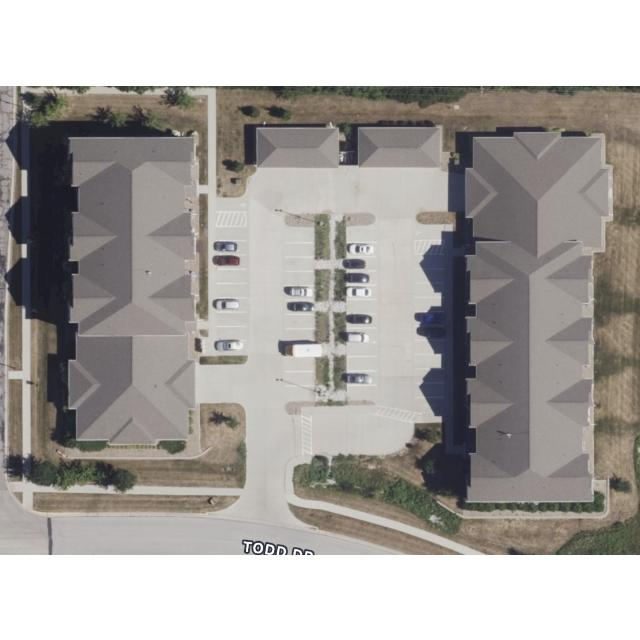Empty: (283, 226, 315, 242), (346, 225, 376, 241), (285, 385, 315, 401), (415, 224, 445, 240), (215, 269, 248, 283), (216, 226, 248, 240), (216, 197, 248, 211), (214, 283, 246, 297), (216, 326, 248, 340), (284, 328, 316, 342), (283, 271, 315, 285), (217, 312, 247, 326), (285, 314, 315, 328), (284, 256, 314, 270), (284, 242, 314, 256), (285, 357, 315, 371), (285, 371, 315, 385), (348, 385, 378, 399), (414, 368, 444, 382), (415, 282, 445, 296), (415, 268, 445, 282), (415, 254, 445, 268), (348, 299, 377, 313), (348, 342, 377, 356), (348, 356, 377, 370), (416, 383, 444, 397), (416, 354, 444, 368), (416, 340, 444, 354), (416, 298, 444, 310)
Parked: (216, 340, 248, 356), (347, 370, 378, 385), (215, 297, 248, 311), (414, 312, 446, 326), (216, 240, 247, 254), (347, 313, 377, 327), (347, 285, 377, 299), (284, 300, 314, 314), (348, 270, 377, 284), (348, 256, 377, 270), (348, 242, 377, 256), (348, 328, 376, 342), (214, 256, 246, 268), (414, 326, 446, 338), (284, 286, 314, 298)
